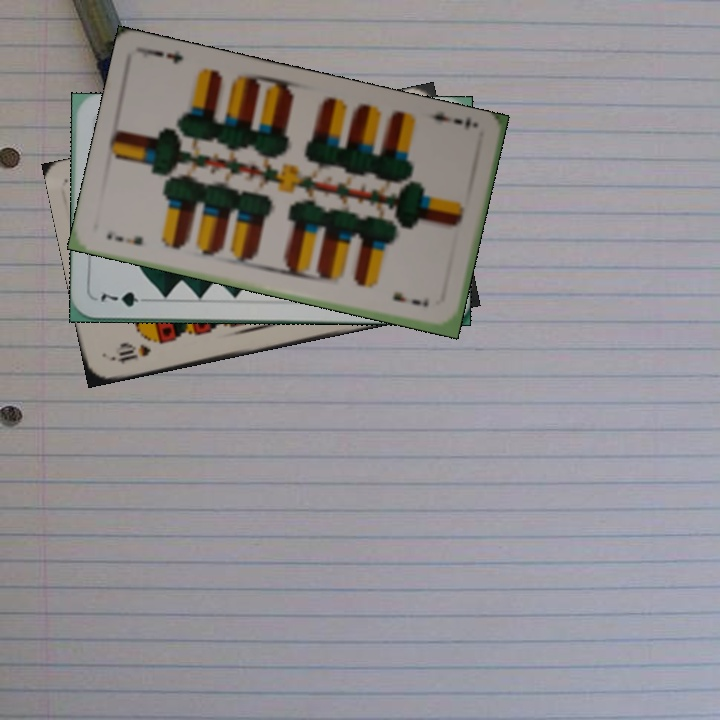E7: (421, 108, 474, 131), (102, 226, 146, 248)
G7: (97, 288, 154, 310)
S10: (107, 340, 153, 366)
